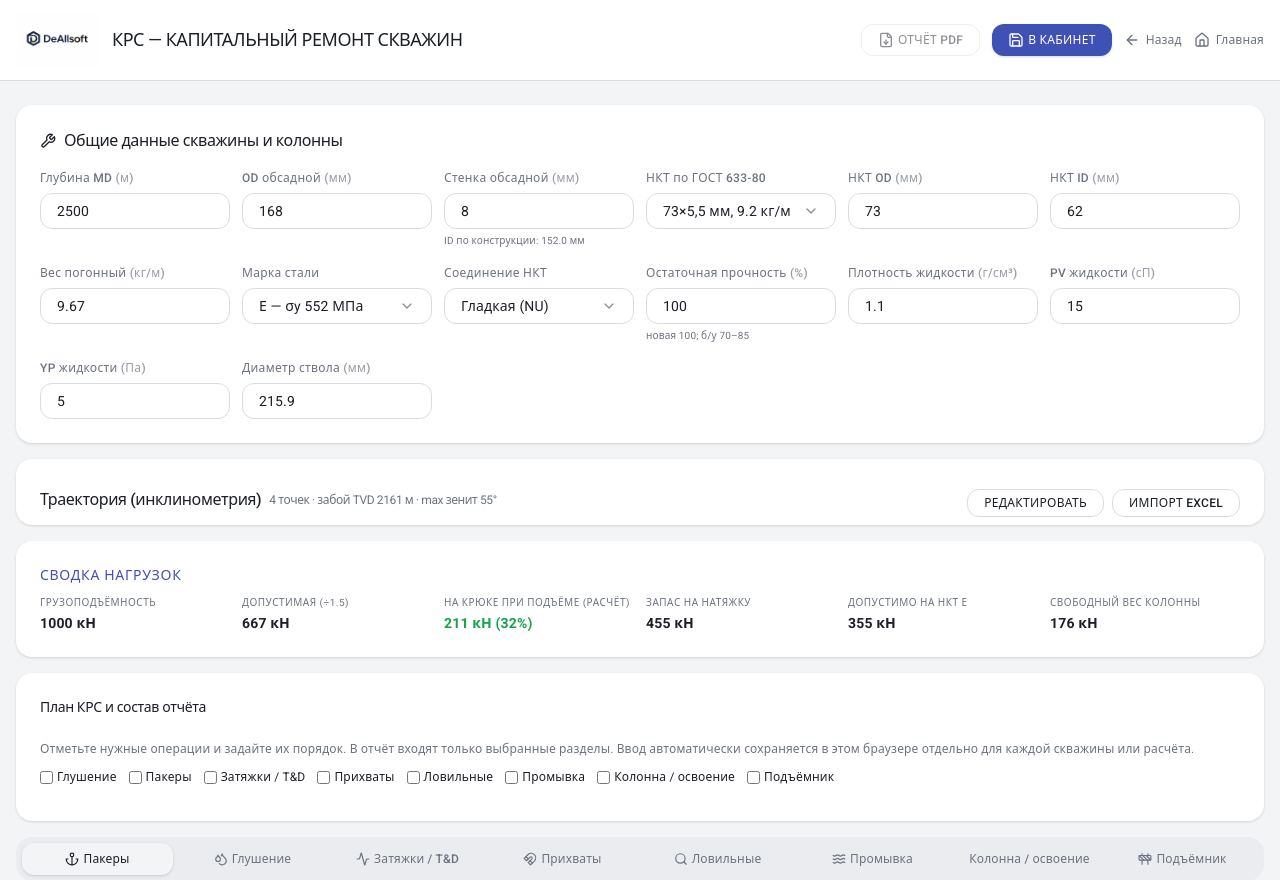
Test case: не экспортирует невыбранные операции и сохраняет выбор в черновик
Later steps or results of the test are not shown.
Expected: the button "Отчёт PDF" is disabled, [861,24,980,56]
Click the checkbox labelled "Подъёмник".
click(754, 777)  # box [747,770,760,784]
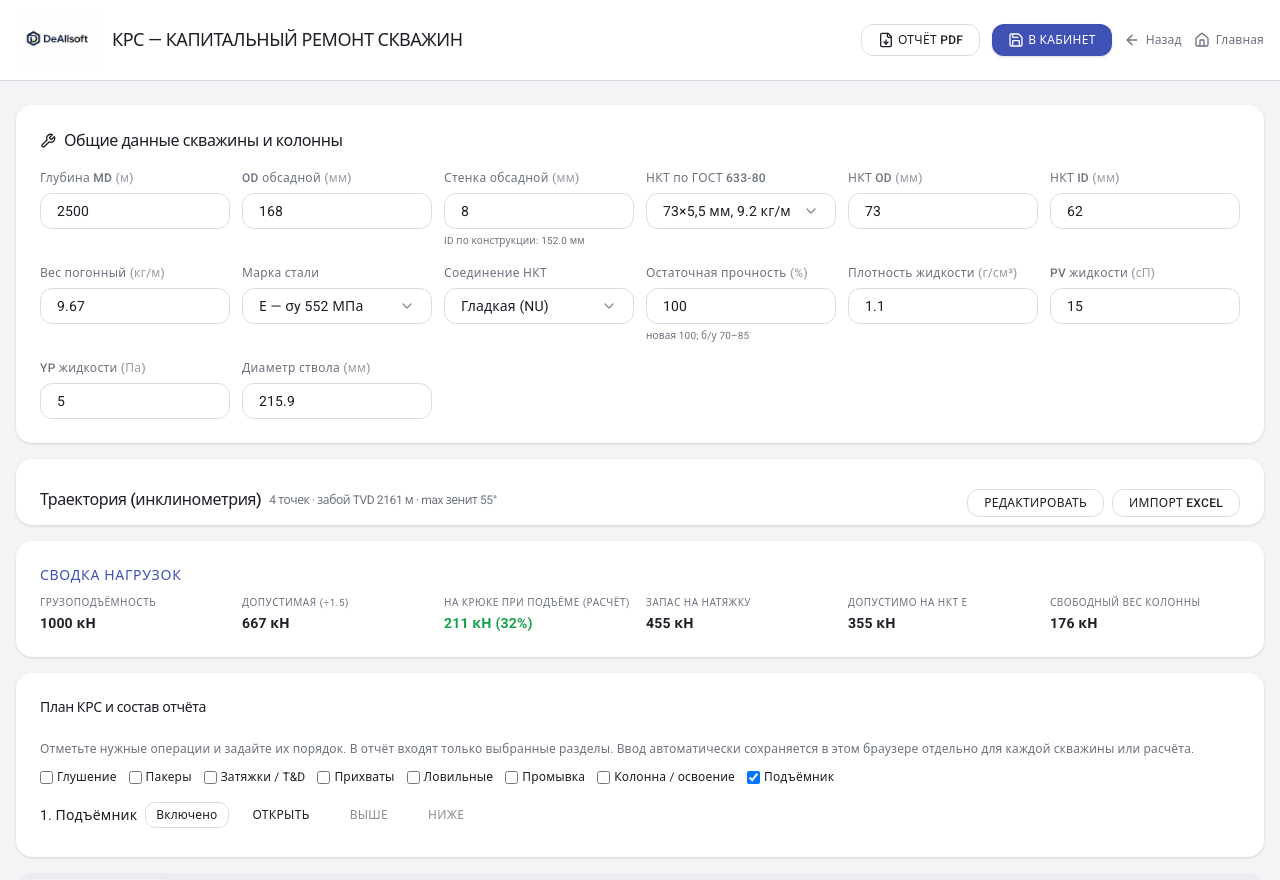
Now the button "Отчёт PDF" is enabled, box [861,24,980,56]
